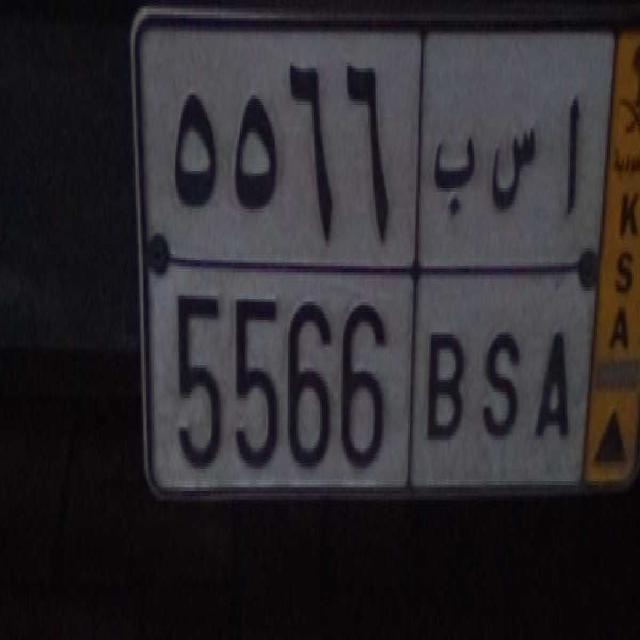license_plate: (151, 256, 594, 498)
